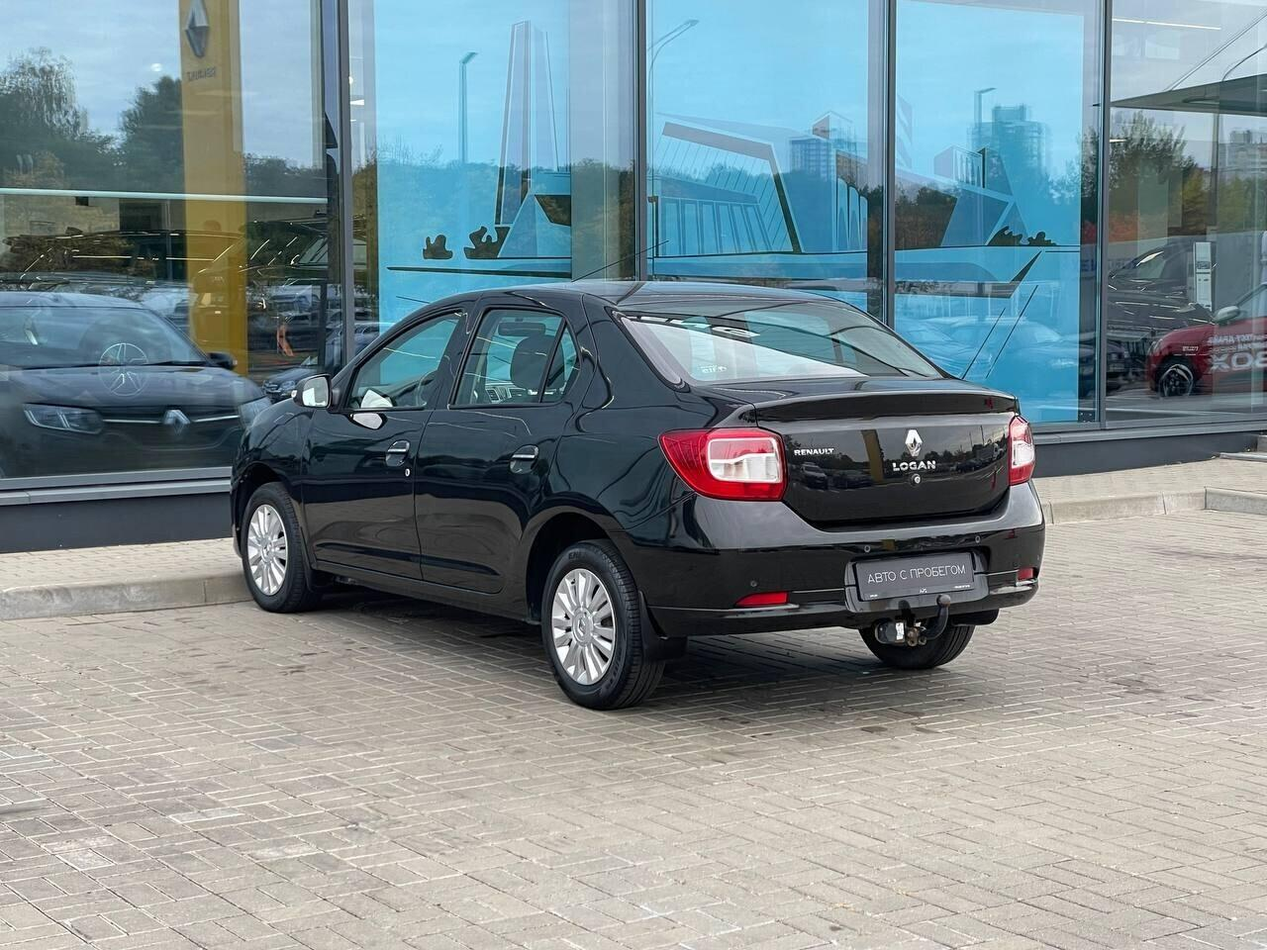Logan_2013-2018: (229, 276, 1059, 714)
